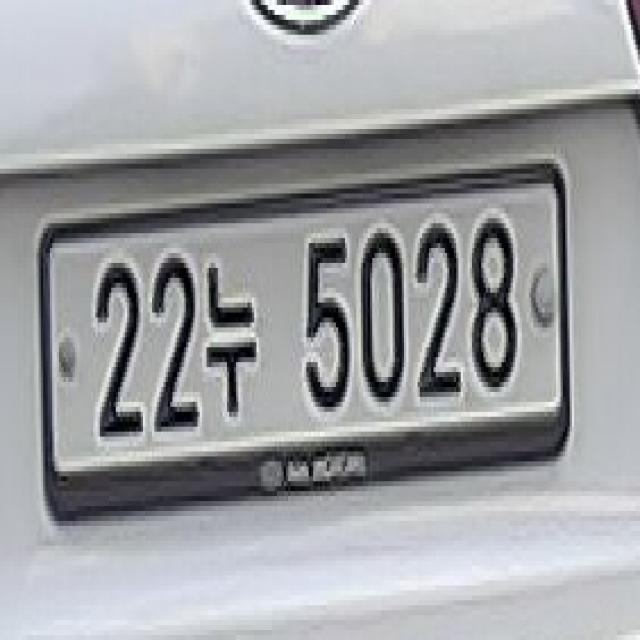0: (356, 222, 410, 412)
2: (412, 212, 470, 405), (90, 255, 148, 446), (148, 247, 205, 438)
5: (297, 230, 360, 422)
8: (468, 208, 527, 400)
license_plate: (51, 183, 561, 469)
nu: (204, 250, 260, 431)
